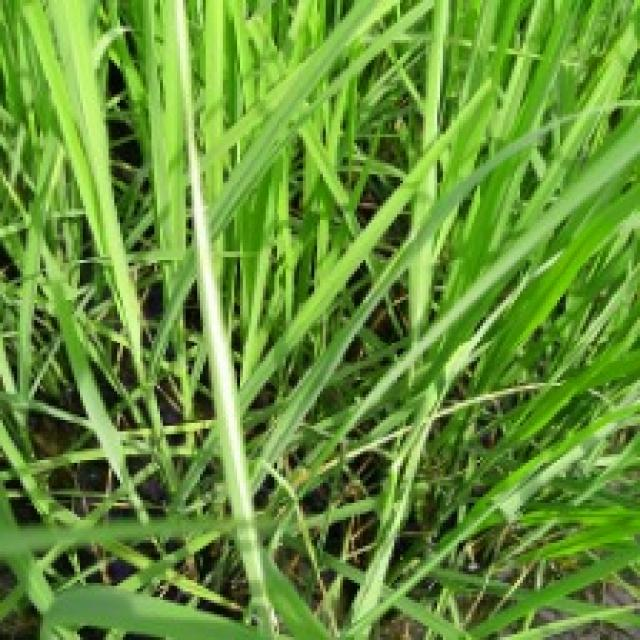Unhealthy: (178, 3, 272, 620)
